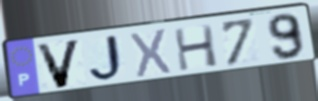7: (220, 16, 257, 68)
9: (264, 11, 307, 62)
H: (171, 22, 220, 73)
J: (88, 32, 129, 84)
V: (33, 37, 83, 91)
X: (128, 26, 173, 80)
